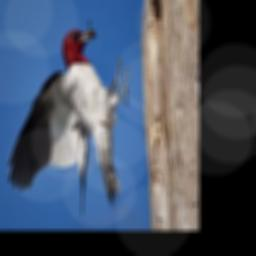Woodpecker: (8, 23, 129, 216)
